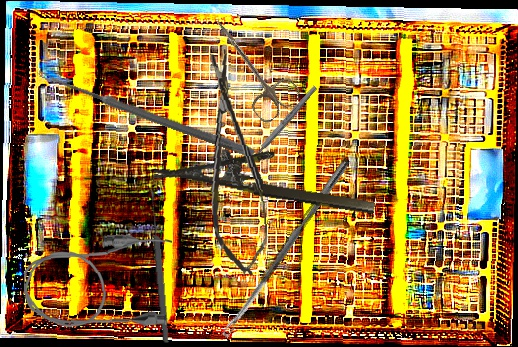Cannula: (21, 232, 177, 332)
Iris Scissors: (196, 7, 304, 126)
Micro Scissor: (198, 47, 271, 278)
Needle Holder: (153, 132, 381, 217)
Surgical Spoon: (220, 156, 351, 339), (35, 68, 256, 159), (238, 84, 319, 175), (148, 189, 171, 344)
